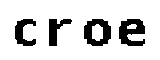c: (11, 17, 37, 50)
e: (116, 15, 151, 51)
o: (80, 17, 113, 50)
r: (46, 17, 71, 50)
